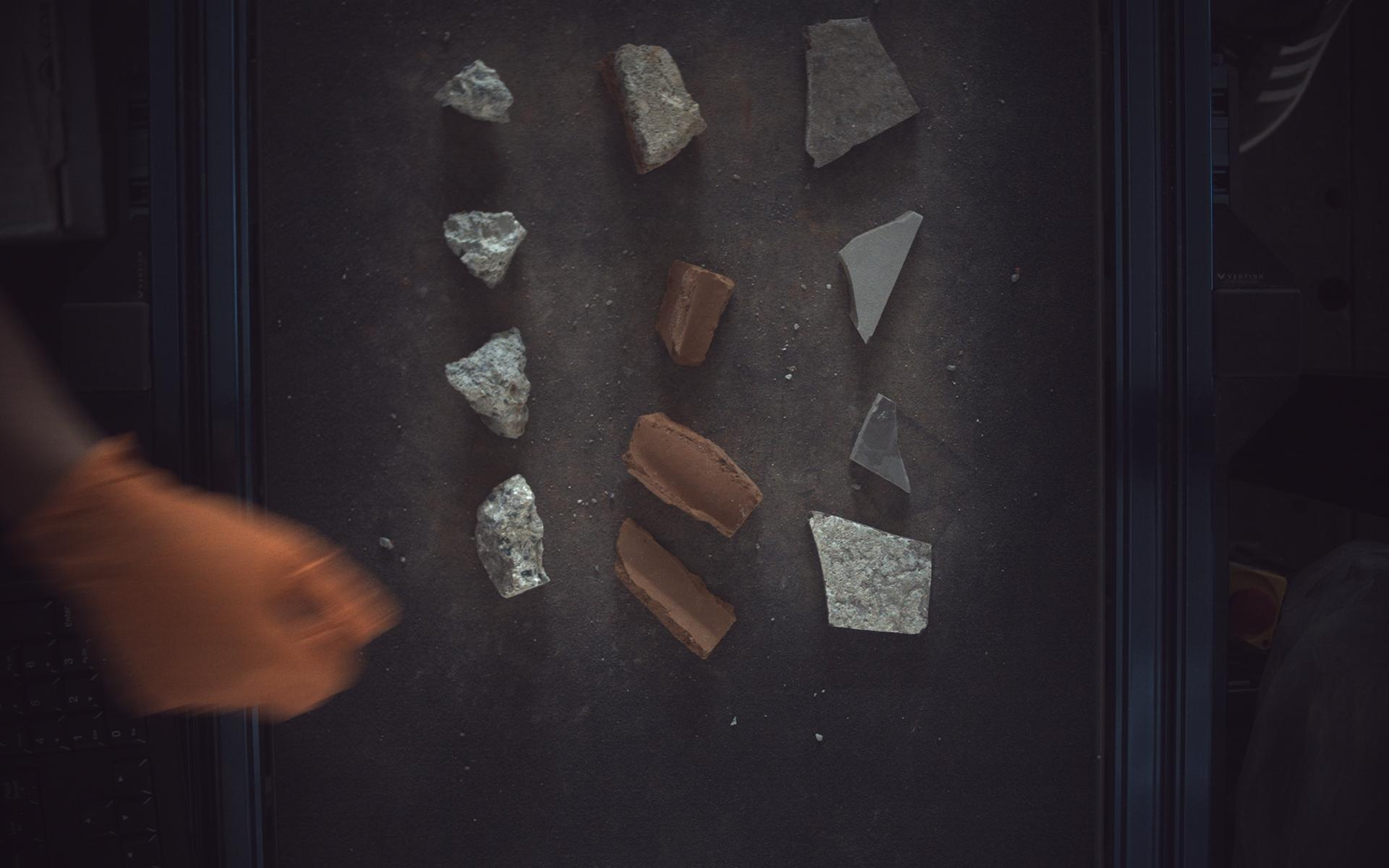brick: (623, 413, 764, 538), (616, 519, 737, 660), (598, 43, 708, 174), (657, 260, 736, 366)
concrete: (446, 328, 531, 439), (475, 475, 550, 599), (443, 210, 527, 288), (435, 59, 514, 122)
tile: (806, 15, 921, 167), (811, 512, 933, 635), (840, 210, 925, 342), (851, 394, 912, 493)
